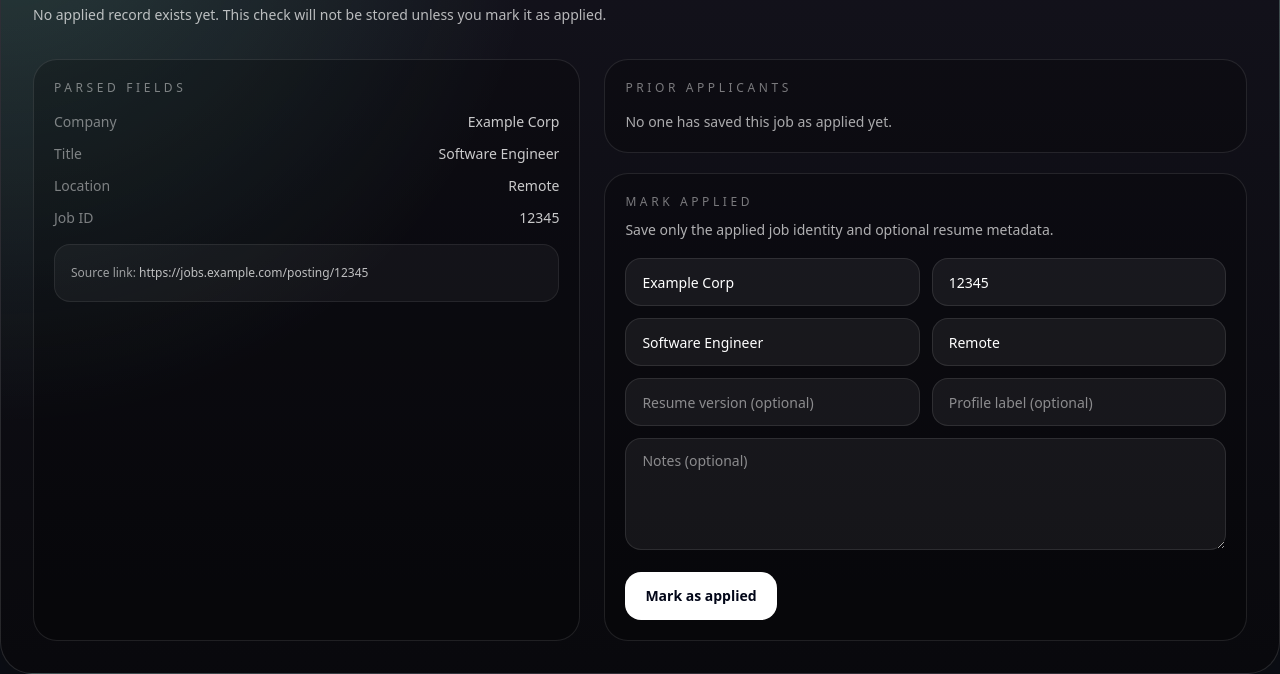
Scenario: ExtensionJobChecker › mark-applied form submission › shows success message after successful mark-applied
(page scrolled)
Step 1. Click the button "Mark as applied" → (701, 596), box [625, 572, 777, 620]
(page scrolled)
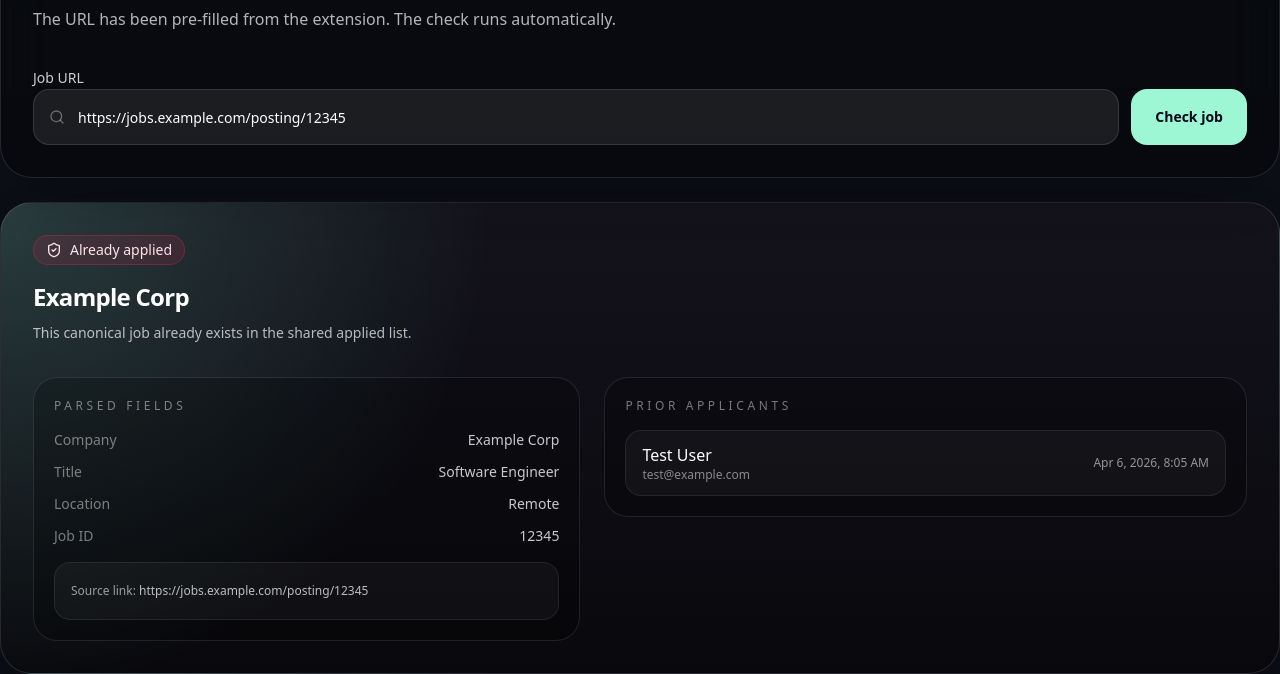
Result: the text "Already applied" is shown at [70, 240, 172, 260]
Result: the button "Mark as applied" is gone
